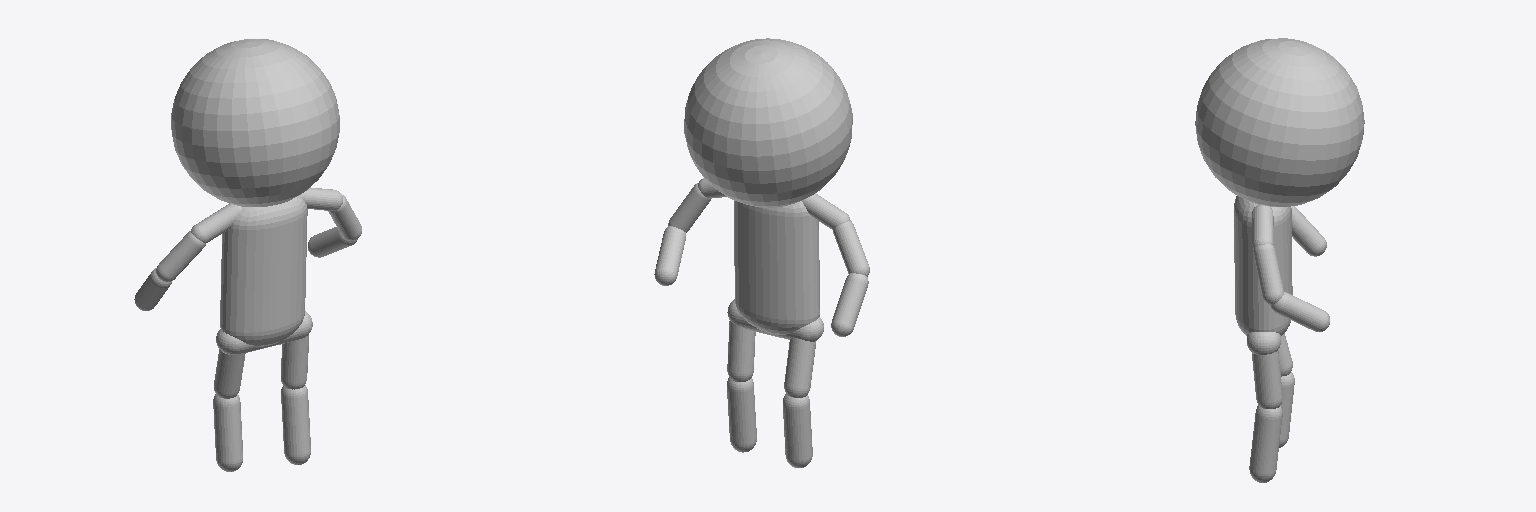
The model's file is Stickman_000052.obj.
The picture shows the model from 3 angles: view 1: azimuth 30°, elevation 25°; view 2: azimuth 150°, elevation 25°; view 3: azimuth 270°, elevation 25°; orthographic projection.
Visible parts, largest first — view 1: Head_Sphere.001, Body_Roundcube.002, LowerLegLeft_Roundcube.013, LowerLegRight_Roundcube.011, UpperLegLeft_Roundcube.012, UpperArmRight_Roundcube.015, UpperLegRight_Roundcube.010, ShoulderRight_Roundcube.014, Hip_Roundcube.005, LowerArmLeft_Roundcube.019, LowerArmRight_Roundcube.016, UpperArmLeft_Roundcube.018 (+1 smaller); view 2: Head_Sphere.001, Body_Roundcube.002, LowerLegRight_Roundcube.011, LowerLegLeft_Roundcube.013, UpperLegRight_Roundcube.010, LowerArmRight_Roundcube.016, UpperLegLeft_Roundcube.012, LowerArmLeft_Roundcube.019, UpperArmRight_Roundcube.015, UpperArmLeft_Roundcube.018, Hip_Roundcube.005, ShoulderRight_Roundcube.014; view 3: Head_Sphere.001, Body_Roundcube.002, LowerLegLeft_Roundcube.013, UpperLegLeft_Roundcube.012, LowerArmLeft_Roundcube.019, UpperArmLeft_Roundcube.018, LowerArmRight_Roundcube.016, ShoulderLeft_Roundcube.017, LowerLegRight_Roundcube.011, Hip_Roundcube.005.
Boxes of the visible parts, x1,y1,x2,y2 form: Head_Sphere.001: [171, 39, 339, 206]; Body_Roundcube.002: [220, 196, 307, 346]; LowerLegLeft_Roundcube.013: [281, 385, 310, 464]; LowerLegRight_Roundcube.011: [213, 394, 242, 471]; UpperLegLeft_Roundcube.012: [281, 335, 308, 389]; UpperArmRight_Roundcube.015: [156, 231, 205, 281]; UpperLegRight_Roundcube.010: [214, 349, 245, 398]; ShoulderRight_Roundcube.014: [191, 203, 241, 243]; Hip_Roundcube.005: [216, 311, 312, 354]; LowerArmLeft_Roundcube.019: [308, 227, 357, 257]; LowerArmRight_Roundcube.016: [134, 268, 171, 310]; UpperArmLeft_Roundcube.018: [328, 195, 361, 240]; Head_Sphere.001: [684, 38, 852, 207]; Body_Roundcube.002: [734, 201, 819, 334]; LowerLegRight_Roundcube.011: [783, 394, 812, 467]; LowerLegLeft_Roundcube.013: [727, 377, 756, 452]; UpperLegRight_Roundcube.010: [784, 338, 815, 397]; LowerArmRight_Roundcube.016: [831, 273, 868, 336]; UpperLegLeft_Roundcube.012: [727, 321, 755, 381]; LowerArmLeft_Roundcube.019: [654, 226, 685, 285]; UpperArmRight_Roundcube.015: [833, 221, 869, 276]; UpperArmLeft_Roundcube.018: [668, 183, 710, 232]; Hip_Roundcube.005: [727, 299, 823, 341]; ShoulderRight_Roundcube.014: [802, 193, 850, 229]; Head_Sphere.001: [1195, 38, 1364, 206]; Body_Roundcube.002: [1234, 196, 1292, 335]; LowerLegLeft_Roundcube.013: [1249, 405, 1282, 482]; UpperLegLeft_Roundcube.012: [1252, 351, 1282, 408]; LowerArmLeft_Roundcube.019: [1270, 292, 1329, 331]; UpperArmLeft_Roundcube.018: [1253, 244, 1283, 304]; LowerArmRight_Roundcube.016: [1291, 206, 1326, 256]; ShoulderLeft_Roundcube.017: [1252, 205, 1273, 248]; LowerLegRight_Roundcube.011: [1279, 372, 1294, 447]; Hip_Roundcube.005: [1247, 332, 1280, 354].
Size of the model in its own units: 6.16 by 12.07 by 4.42.